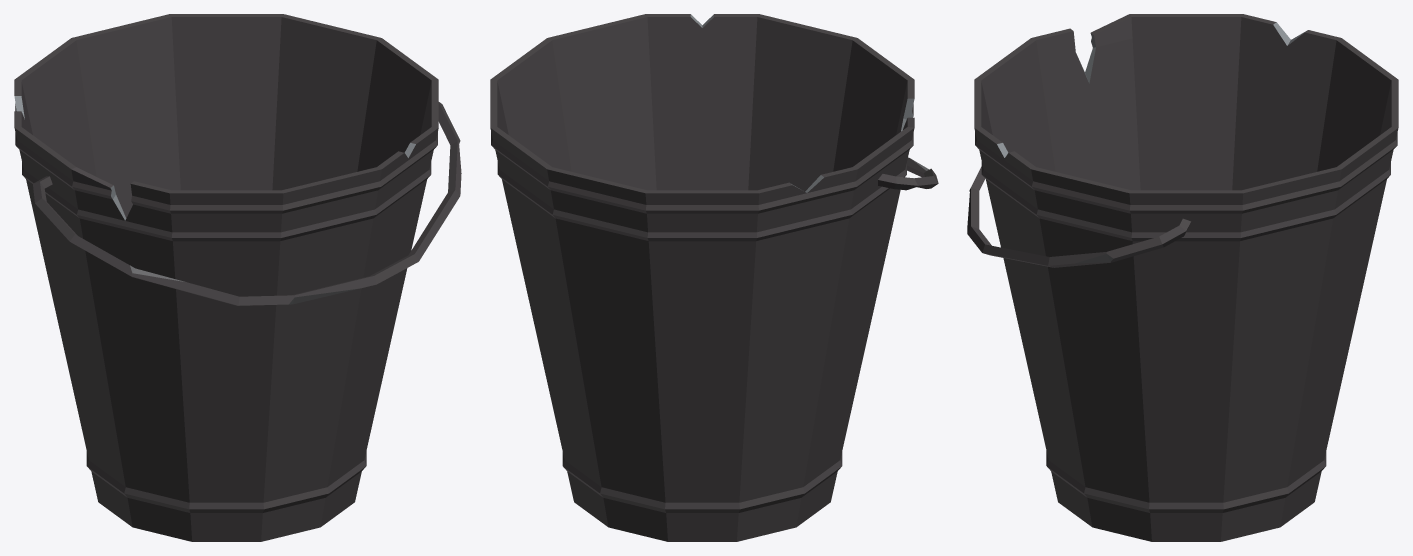
Rendered from Bucket.gltf.
3 views of the same model, side by side, from view 1: azimuth 30°, elevation 25°; view 2: azimuth 150°, elevation 25°; view 3: azimuth 270°, elevation 25° (orthographic).
Parts seen in each view (by area): view 1: Bucket, A_Pen; view 2: Bucket, A_Pen; view 3: Bucket, A_Pen.
Boxes of the visible parts, left/top/right/bottom form: Bucket: left=14, top=14, right=438, bottom=541; A_Pen: left=33, top=102, right=461, bottom=305; Bucket: left=490, top=14, right=914, bottom=541; A_Pen: left=878, top=157, right=938, bottom=190; Bucket: left=974, top=14, right=1398, bottom=541; A_Pen: left=967, top=166, right=1190, bottom=267.
Bounding box in the file's own units: 0.3747 × 0.3376 × 0.3435.
